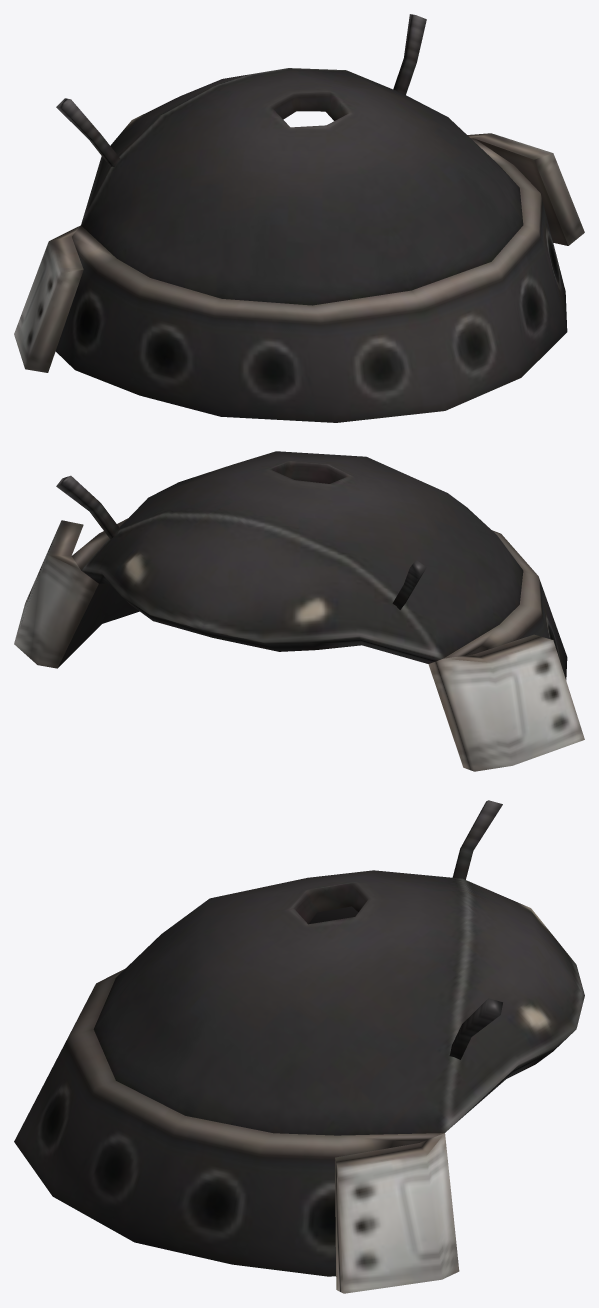
Rendered from ladybugHelmet.glb.
3 views of the same model, one above another, from view 1: azimuth 30°, elevation 25°; view 2: azimuth 150°, elevation 25°; view 3: azimuth 270°, elevation 25° (orthographic). The views are drawn at different scales.
Visible parts, largest first — view 1: ladybugHelmet; view 2: ladybugHelmet; view 3: ladybugHelmet.
Part boxes in pixels (x1,y1,x2,y2): ladybugHelmet: (14, 14, 584, 422); ladybugHelmet: (14, 451, 584, 771); ladybugHelmet: (14, 800, 584, 1293).
Size of the model in its own units: 2.16 by 0.7872 by 1.62.
1 material, 1 textured.
